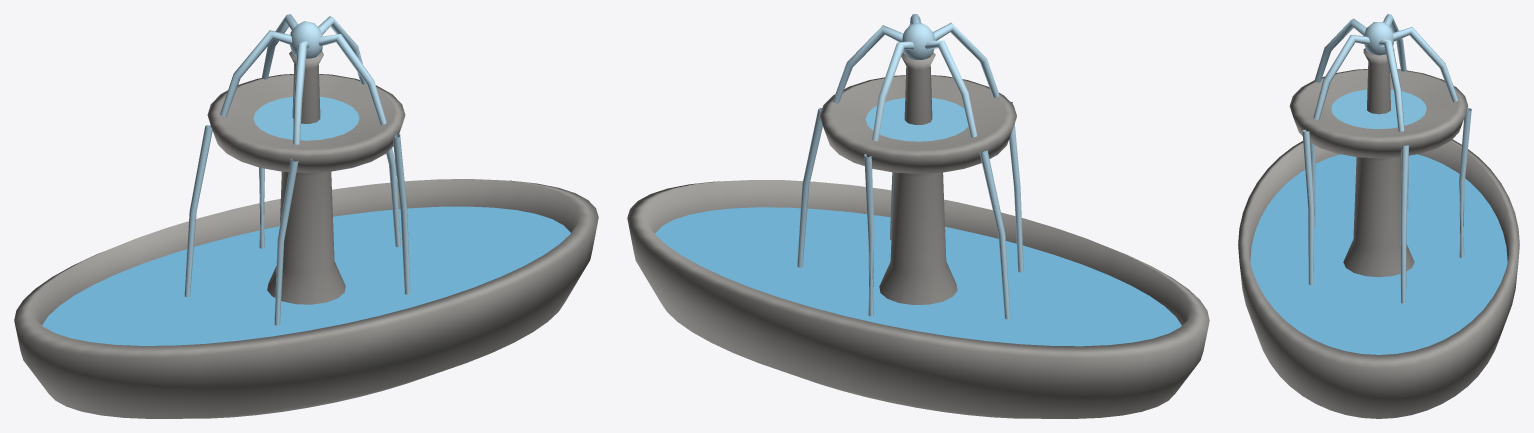
File: furn_disp_fountain.glb
3 renders of one model, left to right at view 1: azimuth 30°, elevation 25°; view 2: azimuth 150°, elevation 25°; view 3: azimuth 270°, elevation 25°, orthographic. The views are drawn at different scales.
Parts seen in each view (by area): view 1: furn_disp_fountain_main, furn_disp_fountain_gloss; view 2: furn_disp_fountain_main, furn_disp_fountain_gloss; view 3: furn_disp_fountain_gloss, furn_disp_fountain_main.
Boxes of the visible parts, x1,y1,x2,y2 form: furn_disp_fountain_main: (14, 51, 598, 418); furn_disp_fountain_gloss: (42, 14, 570, 345); furn_disp_fountain_main: (627, 52, 1209, 418); furn_disp_fountain_gloss: (655, 14, 1181, 346); furn_disp_fountain_gloss: (1250, 14, 1507, 354); furn_disp_fountain_main: (1238, 48, 1519, 418).
Size of the model in its own units: 1.84 by 1.05 by 0.8832.
